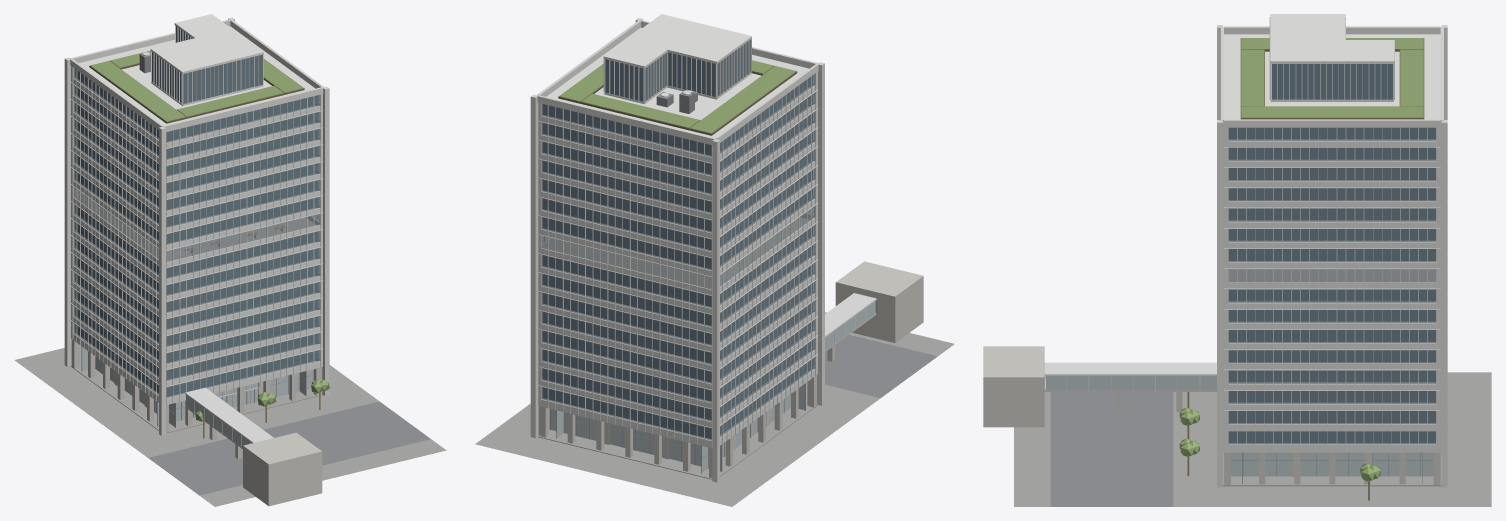
Rendered from clay-plus15-glass-office-tower-clay-v003.glb.
3 renders of one model, left to right at view 1: azimuth 30°, elevation 25°; view 2: azimuth 150°, elevation 25°; view 3: azimuth 270°, elevation 25°, orthographic. The views are drawn at different scales.
Parts seen in each view (by area): view 1: CLAY_GLASS, CLAY_PALE, CLAY_BLUE, CLAY_METAL, CLAY_FOUNDATION, CLAY_HARDWARE, CLAY_CONCRETE, CLAY_FLOOR, CLAY_MEMBRANE, CLAY_PLANTING, CLAY_LIGHTGLASS, CLAY_SOIL; view 2: CLAY_GLASS, CLAY_BLUE, CLAY_PALE, CLAY_METAL, CLAY_FOUNDATION, CLAY_CONCRETE, CLAY_FLOOR, CLAY_MEMBRANE, CLAY_HARDWARE, CLAY_PLANTING, CLAY_LIGHTGLASS, CLAY_SOIL; view 3: CLAY_GLASS, CLAY_BLUE, CLAY_PALE, CLAY_FOUNDATION, CLAY_METAL, CLAY_HARDWARE, CLAY_MEMBRANE, CLAY_CONCRETE, CLAY_FLOOR, CLAY_PLANTING, CLAY_LIGHTGLASS, CLAY_SOIL.
Boxes of the visible parts, x1,y1,x2,y2 form: CLAY_GLASS: (73, 26, 319, 397); CLAY_PALE: (64, 17, 329, 435); CLAY_BLUE: (75, 26, 318, 396); CLAY_METAL: (70, 25, 323, 446); CLAY_FOUNDATION: (14, 345, 446, 506); CLAY_HARDWARE: (81, 51, 430, 495); CLAY_CONCRETE: (71, 335, 322, 506); CLAY_FLOOR: (78, 80, 315, 380); CLAY_MEMBRANE: (79, 14, 314, 125); CLAY_PLANTING: (90, 50, 329, 421); CLAY_LIGHTGLASS: (82, 347, 311, 447); CLAY_SOIL: (89, 60, 304, 123); CLAY_GLASS: (541, 40, 876, 440); CLAY_BLUE: (542, 40, 812, 438); CLAY_PALE: (530, 18, 824, 482); CLAY_METAL: (537, 38, 876, 448); CLAY_FOUNDATION: (475, 312, 954, 506); CLAY_CONCRETE: (538, 261, 923, 477); CLAY_FLOOR: (545, 87, 809, 437); CLAY_MEMBRANE: (546, 14, 808, 137); CLAY_HARDWARE: (549, 89, 937, 473); CLAY_PLANTING: (559, 60, 813, 364); CLAY_LIGHTGLASS: (550, 301, 875, 472); CLAY_SOIL: (558, 66, 797, 135); CLAY_GLASS: (1044, 64, 1436, 444); CLAY_BLUE: (1228, 64, 1435, 443); CLAY_PALE: (1217, 25, 1447, 487); CLAY_FOUNDATION: (1014, 372, 1491, 506); CLAY_METAL: (1044, 17, 1440, 452); CLAY_HARDWARE: (1050, 392, 1433, 506); CLAY_MEMBRANE: (1224, 14, 1440, 119); CLAY_CONCRETE: (983, 346, 1440, 485); CLAY_FLOOR: (1228, 128, 1436, 423); CLAY_PLANTING: (1179, 38, 1423, 481); CLAY_LIGHTGLASS: (1046, 376, 1433, 476); CLAY_SOIL: (1240, 38, 1424, 119).
Size of the model in its own units: 52 by 72.46 by 83.
